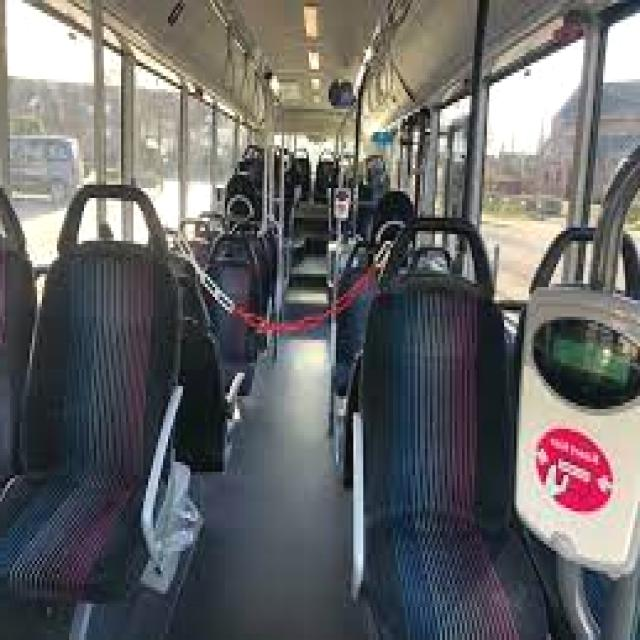asiento-libre: (2, 178, 198, 637), (344, 211, 554, 637), (329, 204, 435, 436), (195, 185, 279, 379), (296, 172, 348, 284), (252, 168, 302, 284)
